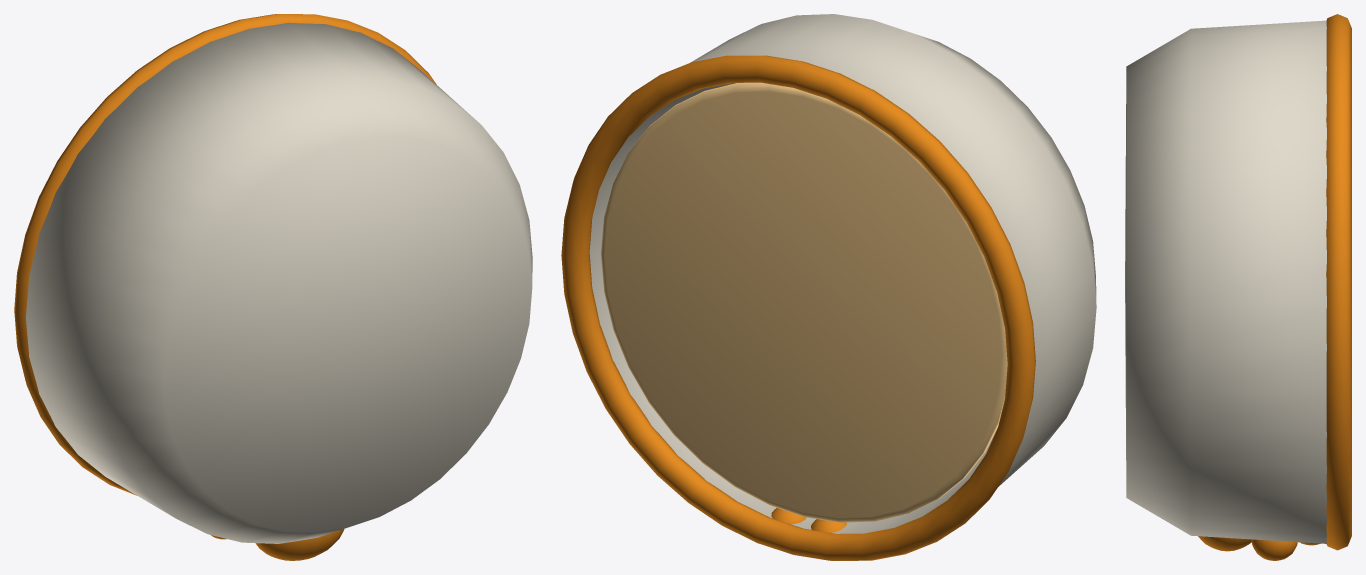
The model's file is CatnipPlanter_Premium.fbx.
The picture shows the model from 3 angles, left to right: view 1: azimuth 30°, elevation 25°; view 2: azimuth 150°, elevation 25°; view 3: azimuth 270°, elevation 25°; orthographic projection. The views are drawn at different scales.
Visible parts, largest first — view 1: CatnipPlanter_Body; view 2: CatnipPlanter_Body; view 3: CatnipPlanter_Body.
Boxes of the visible parts, box(x1,y1,x2,y2) form: CatnipPlanter_Body: box(14, 14, 532, 560); CatnipPlanter_Body: box(561, 14, 1096, 560); CatnipPlanter_Body: box(1125, 14, 1351, 560).
Bounding box in the file's own units: 0.4849 × 0.5044 × 0.205.
